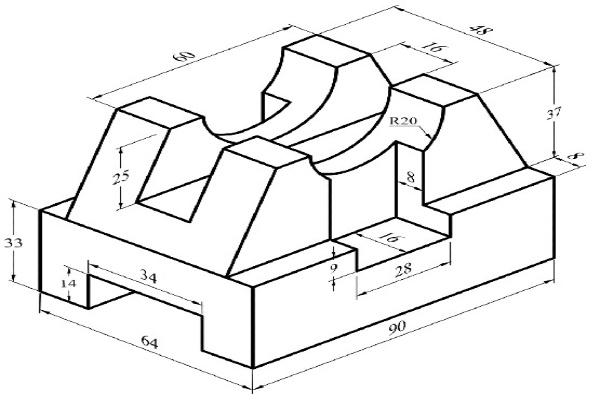dimensions: (134, 262, 165, 286), (417, 37, 451, 58), (465, 18, 496, 41), (169, 44, 198, 67), (137, 328, 163, 352), (386, 109, 419, 127), (386, 319, 415, 339), (108, 167, 135, 188), (376, 227, 405, 245), (545, 101, 566, 123), (564, 144, 588, 163), (393, 262, 416, 281), (60, 273, 80, 292), (3, 232, 25, 249), (326, 258, 343, 275), (404, 166, 418, 185)
